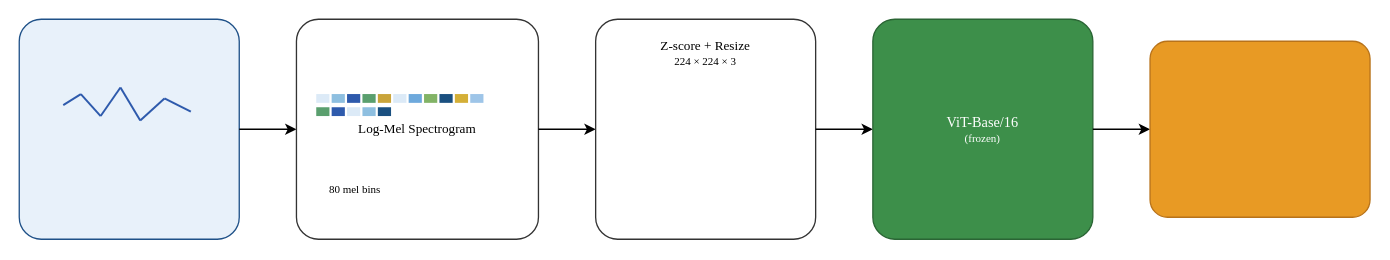
Image size: 1390x260. Some labels were removed from this diagram. Each missing label, with the centre of its shape:
"m ∈ ℝ 512" belongs at (1259,128).
"Raw Waveform" belongs at (128,128).
